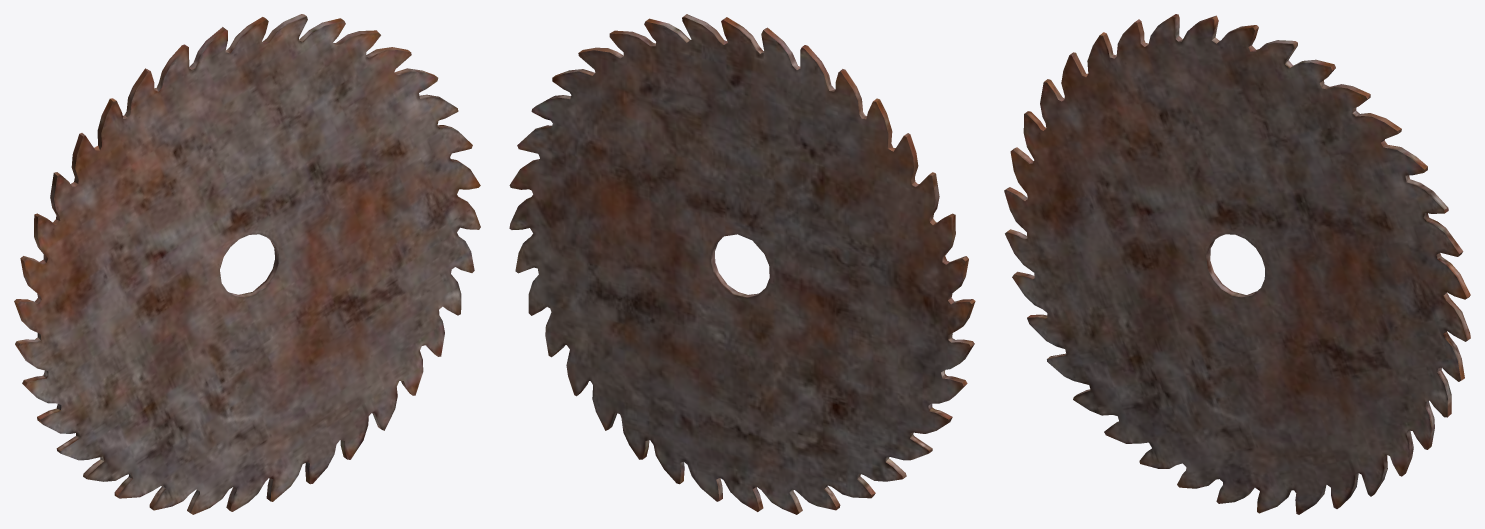
Rendered from saw_blade.glb.
The picture shows the model from 3 angles, left to right: view 1: azimuth 30°, elevation 25°; view 2: azimuth 150°, elevation 25°; view 3: azimuth 330°, elevation 25°; orthographic projection.
Visible parts, largest first — view 1: saw_blade; view 2: saw_blade; view 3: saw_blade.
Boxes of the visible parts, left/top/right/bottom form: saw_blade: left=14, top=14, right=480, bottom=514; saw_blade: left=509, top=14, right=975, bottom=514; saw_blade: left=1004, top=14, right=1470, bottom=514.
Size of what is drawn, in the model's own units: 0.2502 by 0.2502 by 0.00358.
1 material, 1 textured.
